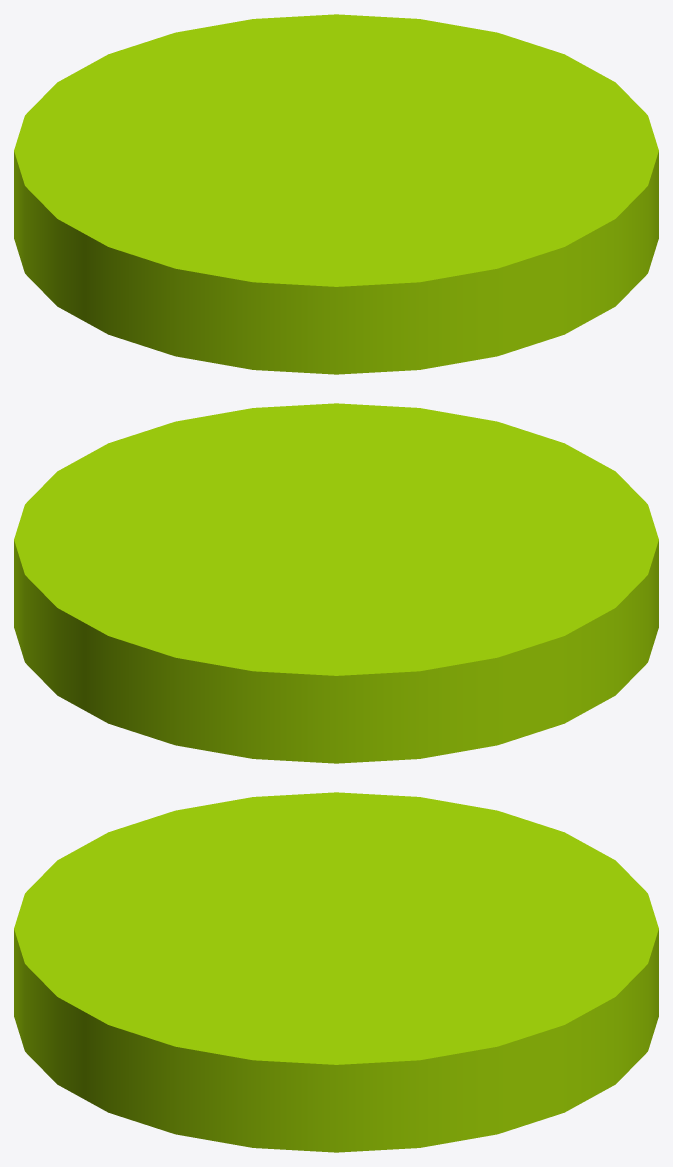
Rendered from Coin.FBX.
3 renders of one model, top to bottom at view 1: azimuth 30°, elevation 25°; view 2: azimuth 150°, elevation 25°; view 3: azimuth 270°, elevation 25°, orthographic.
Parts seen in each view (by area): view 1: Coin; view 2: Coin; view 3: Coin.
Part boxes in pixels (x1,y1,x2,y2): Coin: (14,14,658,374); Coin: (14,403,658,763); Coin: (14,792,658,1152).
Size of the model in its own units: 20 by 3 by 20.
